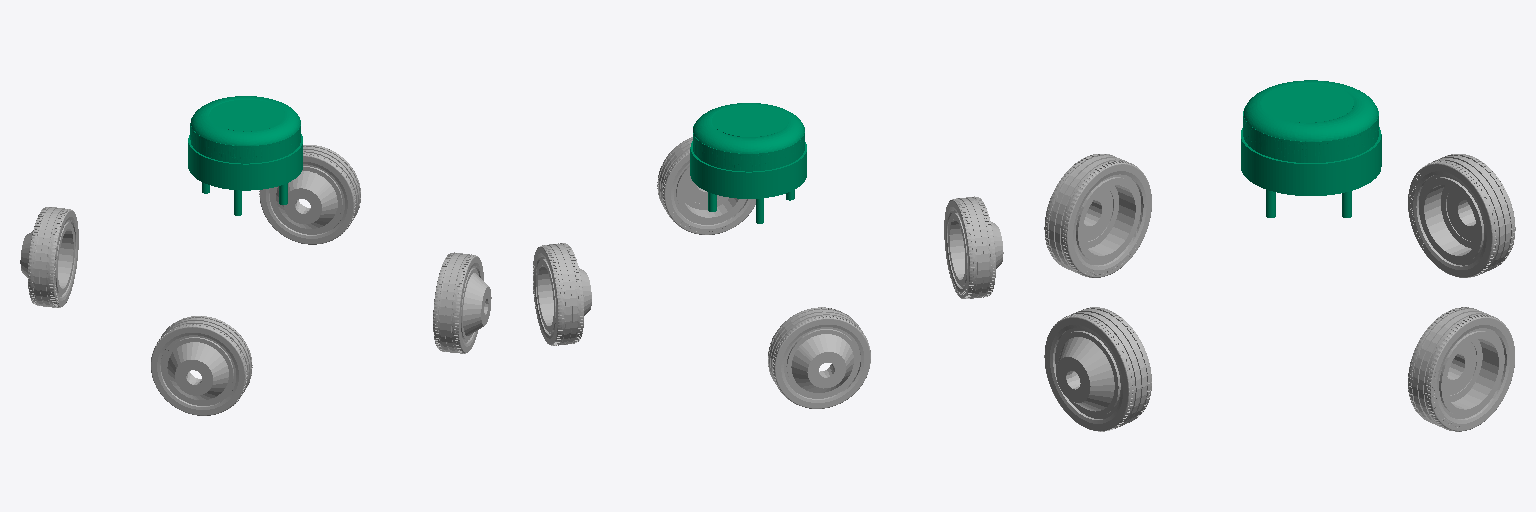
The robot description file, URDF, robot "omnidirectbot":
<?xml version="1.0" encoding="utf-8"?>
<!-- This URDF was automatically created by SolidWorks to URDF Exporter! Originally created by [author] ([email redacted]) 
     Commit Version: 1.6.0-1-g15f4949  Build Version: 1.6.7594.29634
     For more information, please see http://wiki.ros.org/sw_urdf_exporter  0.1345375772092-->
<robot  
name="omnidirectbot">
<link name="base_footprint"/>
  <joint name="base_joint" type="fixed">
    <parent link="base_footprint"/>
    <child link="base_link"/>
    <origin xyz="0.0 0.0 0.010" rpy="0 0 0"/>
  </joint>
  <link    
  name="base_link">
    <inertial>
      <origin
        xyz="0.0159721095649099 0.00224275619197631 0"
        rpy="0 0 0" />
      <mass
        value="0.828550966382806" />
      <inertia
        ixx="0.00274004667548087"
        ixy="2.8115139611349E-06"
        ixz="6.72388559675742E-08"
        iyy="0.00289809377513454"
        iyz="2.13313382622723E-06"
        izz="0.00505022876581928" />
    </inertial>
    <visual>
      <origin
        xyz="0 0 -0.06"
        rpy="0 0 0" />
      <geometry>
        <mesh
          filename="package://omnidirectbot_description/meshes/base_link.STL" />
      </geometry>
      <material
        name="">
        <color
          rgba="0.749019607843137 0.749019607843137 0.749019607843137 1" />
      </material>
    </visual>
    <collision>
      <origin
        xyz="0 0 0"
        rpy="0 0 0" />
      <geometry>
        <mesh
          filename="package://omnidirectbot_description/meshes/base_link.STL" />
      </geometry>
    </collision>
  </link>
  <link
    name="caster_link1">
    <inertial>
      <origin
        xyz="-0.0155552849466845 -0.0590998386941178 -4.84880240054358E-06"
        rpy="0 0 0" />
      <mass
        value="0.0799093668159606" />
      <inertia
        ixx="2.04076055004472E-05"
        ixy="4.58261027105807E-06"
        ixz="1.13538002349658E-10"
        iyy="2.05066023129978E-05"
        iyz="-7.52578086408992E-11"
        izz="2.39023505326146E-05" />
    </inertial>
    <visual>
      <origin
        xyz="0 0 0"
        rpy="0 0 0" />
      <geometry>
        <mesh
          filename="package://omnidirectbot_description/meshes/caster_link1.STL" />
      </geometry>
      <material
        name="">
        <color
          rgba="0.749019607843137 0.749019607843137 0.749019607843137 1" />
      </material>
    </visual>
    <collision>
      <origin
        xyz="0 0 0"
        rpy="0 0 0" />
      <geometry>
        <mesh
          filename="package://omnidirectbot_description/meshes/caster_link1.STL" />
      </geometry>
    </collision>
  </link>
  <joint
    name="caster_joint1"
    type="fixed">
    <origin
      xyz="-0.08181 0.099193 0.11623"
      rpy="1.5708 0 -0.7854" />
    <parent
      link="base_link" />
    <child
      link="caster_link1" />
    <axis
      xyz="0 -1 0" />
    <limit
      lower="-1.57"
      upper="1.57"
      effort="0"
      velocity="0" />
  </joint>
  <link
    name="wheel_link1">
    <inertial>
      <origin
        xyz="2.40854054799067E-06 -1.56676912355103E-06 -0.00303861065239627"
        rpy="0 0 0" />
      <mass
        value="0.0450942716330638" />
      <inertia
        ixx="1.52670658972737E-05"
        ixy="7.70178129590836E-10"
        ixz="-9.81587682242567E-10"
        iyy="1.52692704899531E-05"
        iyz="6.47560386175647E-10"
        izz="2.6872754179264E-05" />
    </inertial>
    <visual>
      <origin
        xyz="0 0 0"
        rpy="0 0 0" />
      <geometry>
        <mesh
          filename="package://omnidirectbot_description/meshes/wheel_link1.STL" />
      </geometry>
      <material
        name="">
        <color
          rgba="0.749019607843137 0.749019607843137 0.749019607843137 1" />
      </material>
    </visual>
    <collision>
      <origin
        xyz="0 0 0"
        rpy="0 0 0" />
      <geometry>
        <mesh
          filename="package://omnidirectbot_description/meshes/wheel_link1.STL" />
      </geometry>
    </collision>
  </link>
  <joint
    name="wheel_joint1"
    type="fixed">
    <origin
      xyz="0 -0.080086 0"
      rpy="-1.5708 -0.84881 -1.5708" />
    <parent
      link="caster_link1" />
    <child
      link="wheel_link1" />
    <axis
      xyz="0 0 1" />
  </joint>
  <link
    name="caster_link2">
    <inertial>
      <origin
        xyz="-0.0155552849407855 -0.05909983905751 -4.8488152321613E-06"
        rpy="0 0 0" />
      <mass
        value="0.0799093668004115" />
      <inertia
        ixx="2.04076055002732E-05"
        ixy="4.5826102710524E-06"
        ixz="1.13535685052168E-10"
        iyy="2.05066023128727E-05"
        iyz="-7.52578170240386E-11"
        izz="2.39023505324843E-05" />
    </inertial>
    <visual>
      <origin
        xyz="0 0 0"
        rpy="0 0 0" />
      <geometry>
        <mesh
          filename="package://omnidirectbot_description/meshes/caster_link2.STL" />
      </geometry>
      <material
        name="">
        <color
          rgba="0.749019607843137 0.749019607843137 0.749019607843137 1" />
      </material>
    </visual>
    <collision>
      <origin
        xyz="0 0 0"
        rpy="0 0 0" />
      <geometry>
        <mesh
          filename="package://omnidirectbot_description/meshes/caster_link2.STL" />
      </geometry>
    </collision>
  </link>
  <joint
    name="caster_joint2"
    type="fixed">
    <origin
      xyz="0.11405 0.099122 0.11623"
      rpy="1.5708 0 -2.3562" />
    <parent
      link="base_link" />
    <child
      link="caster_link2" />
    <axis
      xyz="0 -1 0" />
    <limit
      lower="-1.57"
      upper="1.57"
      effort="0"
      velocity="0" />
  </joint>
  <link
    name="wheel_link2">
    <inertial>
      <origin
        xyz="-8.86769340457949E-07 -2.7338066356658E-06 -0.00303861109042136"
        rpy="0 0 0" />
      <mass
        value="0.0450942715750492" />
      <inertia
        ixx="1.52695041439647E-05"
        ixy="-1.19409694320958E-10"
        ixz="3.70462080070691E-10"
        iyy="1.52668318805047E-05"
        iyz="1.11627420840805E-09"
        izz="2.68727541461807E-05" />
    </inertial>
    <visual>
      <origin
        xyz="0 0 0"
        rpy="0 0 0" />
      <geometry>
        <mesh
          filename="package://omnidirectbot_description/meshes/wheel_link2.STL" />
      </geometry>
      <material
        name="">
        <color
          rgba="0.749019607843137 0.749019607843137 0.749019607843137 1" />
      </material>
    </visual>
    <collision>
      <origin
        xyz="0 0 0"
        rpy="0 0 0" />
      <geometry>
        <mesh
          filename="package://omnidirectbot_description/meshes/wheel_link2.STL" />
      </geometry>
    </collision>
  </link>
  <joint
    name="wheel_joint2"
    type="fixed">
    <origin
      xyz="0 -0.080086 0"
      rpy="1.5708 -0.81739 -1.5708" />
    <parent
      link="caster_link2" />
    <child
      link="wheel_link2" />
    <axis
      xyz="0 0 1" />
  </joint>
  <link
    name="caster_link3">
    <inertial>
      <origin
        xyz="-0.0155552850671327 -0.0590998391449928 -4.84882023318867E-06"
        rpy="0 0 0" />
      <mass
        value="0.0799093671374404" />
      <inertia
        ixx="2.04076055040449E-05"
        ixy="4.58261027107902E-06"
        ixz="1.13534672037185E-10"
        iyy="2.05066023156955E-05"
        iyz="-7.52578205938046E-11"
        izz="2.39023505353079E-05" />
    </inertial>
    <visual>
      <origin
        xyz="0 0 0"
        rpy="0 0 0" />
      <geometry>
        <mesh
          filename="package://omnidirectbot_description/meshes/caster_link3.STL" />
      </geometry>
      <material
        name="">
        <color
          rgba="0.749019607843137 0.749019607843137 0.749019607843137 1" />
      </material>
    </visual>
    <collision>
      <origin
        xyz="0 0 0"
        rpy="0 0 0" />
      <geometry>
        <mesh
          filename="package://omnidirectbot_description/meshes/caster_link3.STL" />
      </geometry>
    </collision>
  </link>
  <joint
    name="caster_joint3"
    type="fixed">
    <origin
      xyz="-0.081881 -0.096667 0.11623"
      rpy="1.5708 0 0.7854" />
    <parent
      link="base_link" />
    <child
      link="caster_link3" />
    <axis
      xyz="0 -1 0" />
    <limit
      lower="-1.57"
      upper="1.57"
      effort="0"
      velocity="0" />
  </joint>
  <link
    name="wheel_link3">
    <inertial>
      <origin
        xyz="-2.82887973858392E-06 -4.89261457944923E-07 -0.00303861196716623"
        rpy="0 0 0" />
      <mass
        value="0.0450942715746105" />
      <inertia
        ixx="1.52673097667287E-05"
        ixy="-1.0367335073758E-09"
        ixz="1.1592980387725E-09"
        iyy="1.52690255862927E-05"
        iyz="1.92220470125054E-10"
        izz="2.68727541458412E-05" />
    </inertial>
    <visual>
      <origin
        xyz="0 0 0"
        rpy="0 0 0" />
      <geometry>
        <mesh
          filename="package://omnidirectbot_description/meshes/wheel_link3.STL" />
      </geometry>
      <material
        name="">
        <color
          rgba="0.749019607843137 0.749019607843137 0.749019607843137 1" />
      </material>
    </visual>
    <collision>
      <origin
        xyz="0 0 0"
        rpy="0 0 0" />
      <geometry>
        <mesh
          filename="package://omnidirectbot_description/meshes/wheel_link3.STL" />
      </geometry>
    </collision>
  </link>
  <joint
    name="wheel_joint3"
    type="fixed">
    <origin
      xyz="0 -0.080086 0"
      rpy="1.5708 -0.036844 1.5708" />
    <parent
      link="caster_link3" />
    <child
      link="wheel_link3" />
    <axis
      xyz="0 0 1" />
  </joint>
  <link
    name="caster_link4">
    <inertial>
      <origin
        xyz="-0.0155552848609414 -0.0590998390064758 -5.48488182232632E-05"
        rpy="0 0 0" />
      <mass
        value="0.0799093666079426" />
      <inertia
        ixx="2.04076054981193E-05"
        ixy="4.58261027096989E-06"
        ixz="1.13537469331306E-10"
        iyy="2.05066023113094E-05"
        iyz="-7.52578107495066E-11"
        izz="2.39023505309242E-05" />
    </inertial>
    <visual>
      <origin
        xyz="0 0 0"
        rpy="0 0 0" />
      <geometry>
        <mesh
          filename="package://omnidirectbot_description/meshes/caster_link4.STL" />
      </geometry>
      <material
        name="">
        <color
          rgba="0.749019607843137 0.749019607843137 0.749019607843137 1" />
      </material>
    </visual>
    <collision>
      <origin
        xyz="0 0 0"
        rpy="0 0 0" />
      <geometry>
        <mesh
          filename="package://omnidirectbot_description/meshes/caster_link4.STL" />
      </geometry>
    </collision>
  </link>
  <joint
    name="caster_joint4"
    type="fixed">
    <origin
      xyz="0.11409 -0.096631 0.11623"
      rpy="1.5708 0 2.3562" />
    <parent
      link="base_link" />
    <child
      link="caster_link4" />
    <axis
      xyz="0 -1 0" />
    <limit
      lower="-1.57"
      upper="1.57"
      effort="0"
      velocity="0" />
  </joint>

  <link
    name="wheel_link4">
    <inertial>
      <origin
        xyz="0.00303861196739572 1.95956082350152E-06 -2.09745763153635E-06"
        rpy="0 0 0" />
      <mass
        value="0.0450942715735576" />
      <inertia
        ixx="2.68727541461959E-05"
        ixy="8.08074819096868E-10"
        ixz="-8.52983778452163E-10"
        iyy="1.52689336034599E-05"
        iyz="1.10666062120856E-09"
        izz="1.52674017498127E-05" />
    </inertial>
    <visual>
      <origin
        xyz="0 0 0"
        rpy="0 0 0" />
      <geometry>
        <mesh
          filename="package://omnidirectbot_description/meshes/wheel_link4.STL" />
      </geometry>
      <material
        name="">
        <color
          rgba="0.749019607843137 0.749019607843137 0.749019607843137 1" />
      </material>
    </visual>
    <collision>
      <origin
        xyz="0 0 0"
        rpy="0 0 0" />
      <geometry>
        <mesh
          filename="package://omnidirectbot_description/meshes/wheel_link4.STL" />
      </geometry>
    </collision>
  </link>

  <joint
    name="wheel_joint4"
    type="fixed">
    <origin
      xyz="0 -0.080086 -5E-05"
      rpy="1.0701 0 -3.1416" />
    <parent
      link="caster_link4" />
    <child
      link="wheel_link4" />
    <axis
      xyz="-1 0 0" />
  </joint>

  <link name="laser">
      <visual>
          <origin xyz="0.0 0.0 0.0" rpy="0.0 0.0 0.0" />
        <geometry>
        <mesh
          filename="package://omnidirectbot_description/meshes/ldsA3.STL" />
      </geometry>
          <material name="black" />
      </visual>
  </link>

  <joint name="laser2link" type="fixed">
      <parent link="base_link" />
      <child link="laser" />
      <origin xyz="-0.02 -0.02 0.09" />
  </joint>



</robot>

--- Facts derived from the render (not from the file) ---
3 views of the same robot in one strip: view 1: azimuth 30°, elevation 25°; view 2: azimuth 150°, elevation 25°; view 3: azimuth 270°, elevation 25° (orthographic).
Robot: omnidirectbot — 11 links, 10 joints (10 fixed); root link base_footprint; default pose: all joints at 0.
Visible links, largest first — view 1: laser, wheel_link3, wheel_link2, wheel_link1, wheel_link4; view 2: laser, wheel_link1, wheel_link3, wheel_link2, wheel_link4; view 3: laser, wheel_link4, wheel_link1, wheel_link2, wheel_link3.
Boxes of the visible links, x1,y1,x2,y2 form: laser: (188, 96, 302, 215); wheel_link3: (151, 316, 252, 415); wheel_link2: (259, 145, 360, 244); wheel_link1: (20, 207, 78, 307); wheel_link4: (433, 252, 491, 353); laser: (690, 103, 806, 223); wheel_link1: (768, 307, 870, 408); wheel_link3: (944, 196, 1003, 298); wheel_link2: (533, 243, 591, 345); wheel_link4: (657, 137, 755, 234); laser: (1241, 80, 1381, 217); wheel_link4: (1044, 307, 1151, 431); wheel_link1: (1408, 154, 1515, 277); wheel_link2: (1408, 307, 1514, 431); wheel_link3: (1044, 154, 1151, 277).
Size in the robot's own frame: 0.2539 by 0.2538 by 0.1465 metres.
5 mesh visuals loaded from 10 distinct referenced files (5 binary STL); not drawn: 5 (reference not matched to a file when rendering).